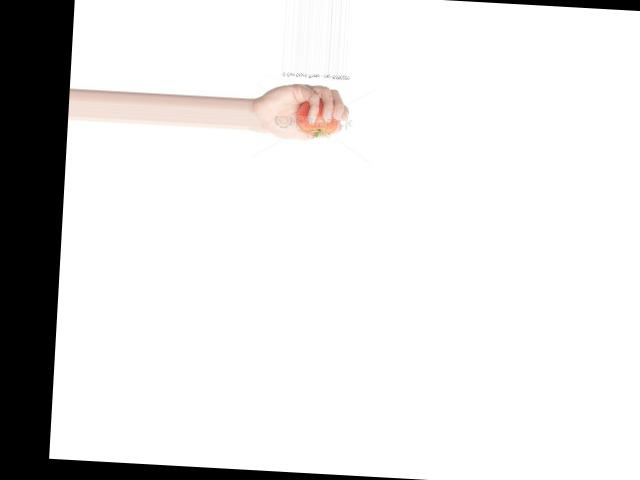tomato: (297, 98, 341, 137)
